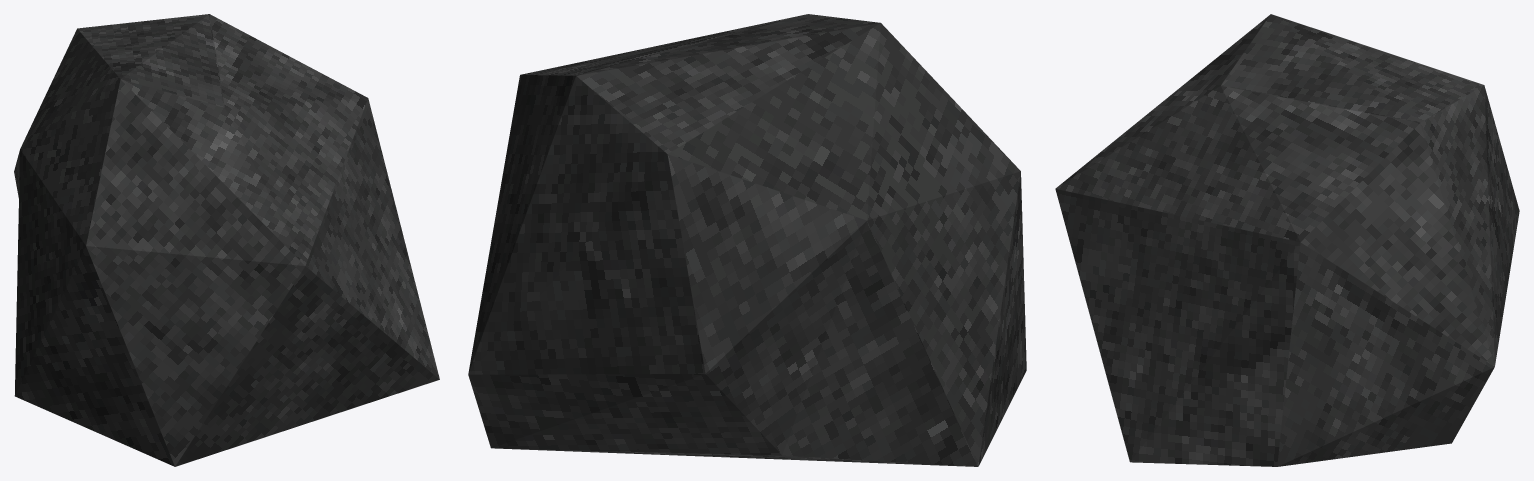
The model's file is CaveBoulder.glb.
3 views of the same model, side by side, from view 1: azimuth 30°, elevation 25°; view 2: azimuth 150°, elevation 25°; view 3: azimuth 270°, elevation 25° (orthographic). The views are drawn at different scales.
Visible parts, largest first — view 1: Icosphere; view 2: Icosphere; view 3: Icosphere.
Boxes of the visible parts, x1,y1,x2,y2 form: Icosphere: (14, 14, 439, 466); Icosphere: (468, 14, 1026, 466); Icosphere: (1055, 14, 1519, 466).
Bounding box in the file's own units: 2.17 × 1.71 × 2.17.
1 material, 1 textured.
